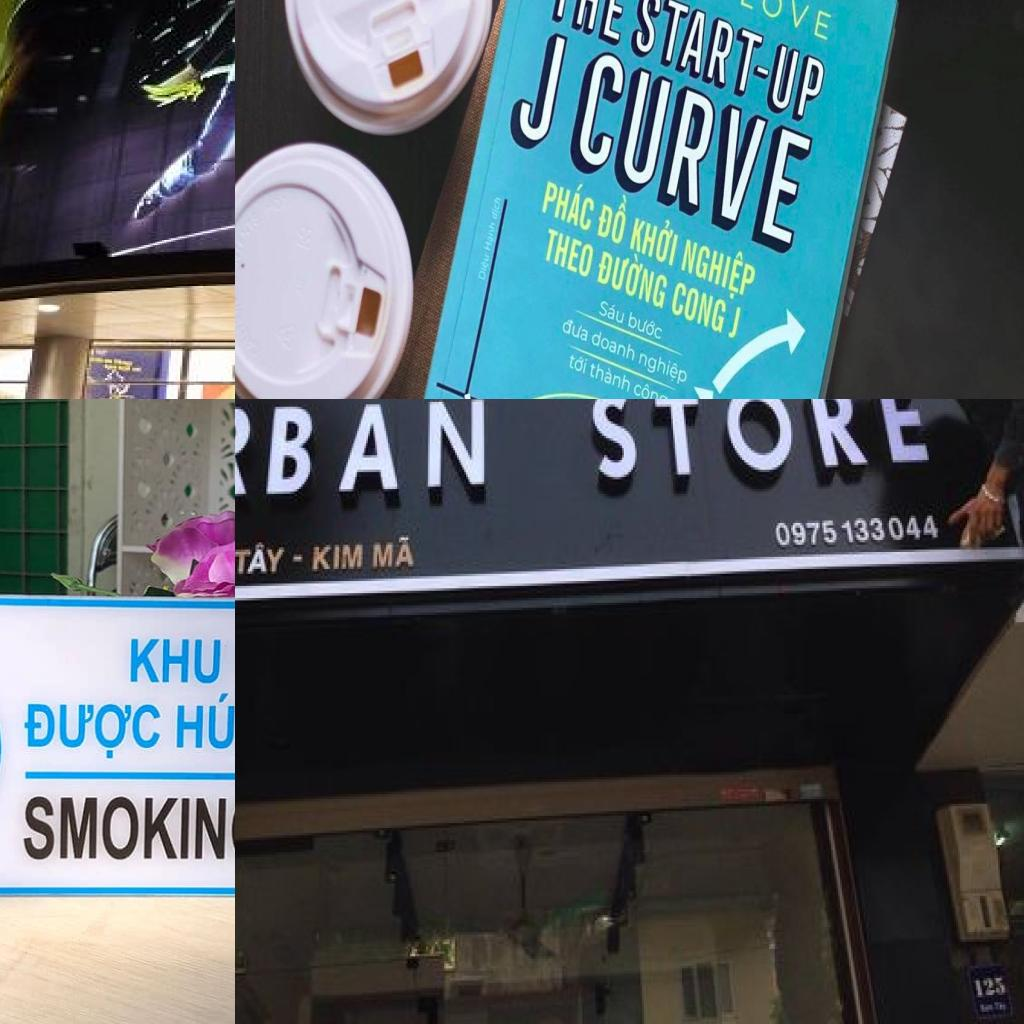text: (558, 42, 817, 260), (586, 399, 940, 505), (235, 399, 493, 525), (20, 794, 235, 864), (626, 0, 765, 102), (503, 24, 583, 166), (24, 700, 163, 761), (771, 511, 947, 552), (678, 228, 760, 309), (595, 238, 673, 314), (734, 0, 839, 51), (129, 638, 223, 684), (544, 0, 634, 48), (668, 278, 732, 338), (626, 204, 683, 271), (175, 691, 235, 752), (545, 170, 600, 235), (543, 225, 597, 283), (235, 542, 311, 578), (635, 345, 691, 390), (594, 187, 634, 249), (370, 533, 422, 571), (589, 328, 638, 368), (588, 357, 634, 397), (312, 542, 366, 576), (626, 309, 664, 346), (595, 296, 627, 329), (630, 377, 674, 399), (562, 315, 592, 346), (564, 345, 592, 378), (972, 976, 1009, 1000), (724, 308, 744, 339), (483, 219, 499, 254), (476, 250, 492, 282), (489, 195, 503, 223)
